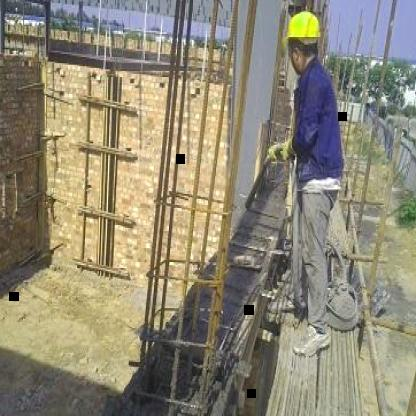helmet: (282, 5, 328, 46)
